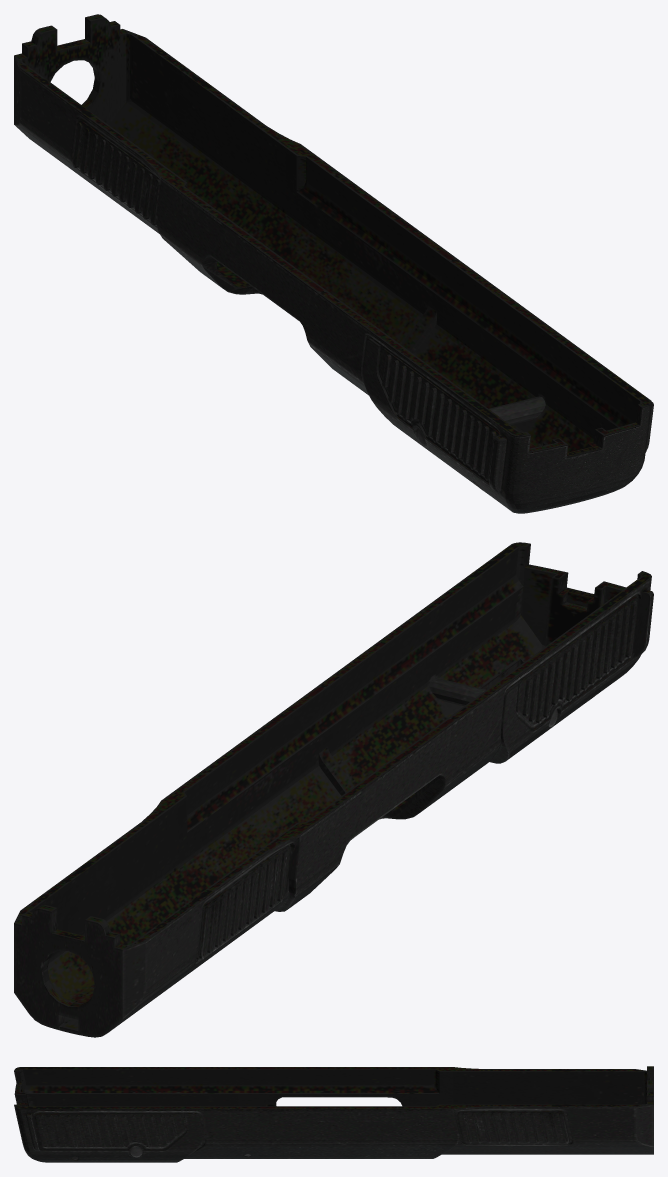
3 views of the same model, one above another, from view 1: azimuth 30°, elevation 25°; view 2: azimuth 150°, elevation 25°; view 3: azimuth 270°, elevation 25° (orthographic). The views are drawn at different scales.
Parts seen in each view (by area): view 1: TW_5d3eb44aa4b93650d64e4979_PZ_Import; view 2: TW_5d3eb44aa4b93650d64e4979_PZ_Import; view 3: TW_5d3eb44aa4b93650d64e4979_PZ_Import.
Boxes of the visible parts, bbox=[...] form: TW_5d3eb44aa4b93650d64e4979_PZ_Import: bbox=[14, 14, 653, 513]; TW_5d3eb44aa4b93650d64e4979_PZ_Import: bbox=[14, 542, 653, 1037]; TW_5d3eb44aa4b93650d64e4979_PZ_Import: bbox=[14, 1066, 653, 1162].
Size of the model in its own units: 0.0208 by 0.1189 by 0.0153.
Materials: 1 (1 with a texture image).
